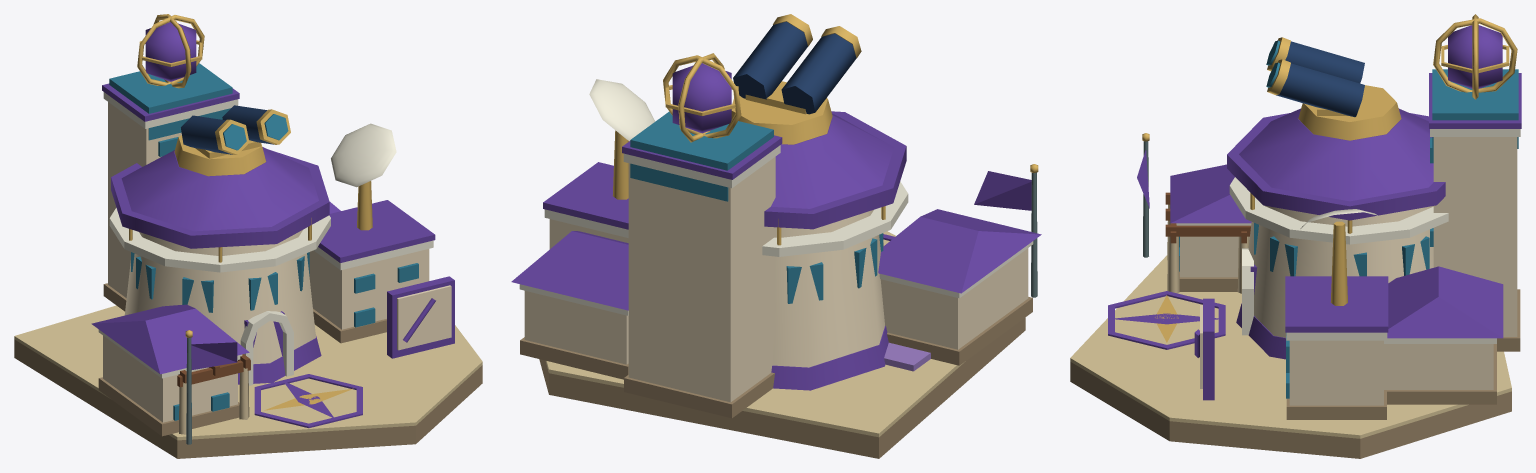
Rendered from scout-center-lv5.glb.
3 views of the same model, side by side, from view 1: azimuth 30°, elevation 25°; view 2: azimuth 150°, elevation 25°; view 3: azimuth 270°, elevation 25° (orthographic). The views are drawn at different scales.
Parts seen in each view (by area): view 1: foundation_sand, faceted_roof_violet, octagonal_office_cream, foundation_stoneDark, archive_wing_roof_violet, observation_eave_violet, communications_cream, archive_wing_cream, observation_balcony_white, communications_roof_violet, global_office_cream, global_office_crown_glass (+25 smaller); view 2: global_office_cream, octagonal_office_cream, foundation_stoneDark, foundation_sand, archive_wing_roof_violet, archive_wing_cream, faceted_roof_violet, roof_binoculars_naval, analysis_wing_roof_violet, global_office_crown_glass, analysis_wing_cream, observation_eave_violet (+23 smaller); view 3: foundation_sand, global_office_cream, faceted_roof_violet, foundation_stoneDark, octagonal_office_cream, analysis_wing_roof_violet, communications_cream, communications_roof_violet, analysis_wing_cream, observation_eave_violet, roof_binoculars_naval, observation_balcony_white (+25 smaller).
Part boxes in pixels (x1,y1,x2,y2): foundation_sand: [14, 305, 482, 440]; faceted_roof_violet: [121, 147, 318, 231]; octagonal_office_cream: [124, 230, 315, 364]; foundation_stoneDark: [14, 339, 482, 458]; archive_wing_roof_violet: [91, 304, 249, 374]; observation_eave_violet: [111, 149, 329, 248]; communications_cream: [309, 249, 429, 329]; archive_wing_cream: [103, 335, 237, 422]; observation_balcony_white: [109, 208, 330, 272]; communications_roof_violet: [318, 200, 435, 262]; global_office_cream: [108, 102, 181, 297]; global_office_crown_glass: [109, 63, 232, 140]; global_office_cream: [628, 156, 775, 402]; octagonal_office_cream: [772, 210, 884, 367]; foundation_stoneDark: [539, 317, 1025, 458]; foundation_sand: [545, 231, 965, 437]; archive_wing_roof_violet: [878, 209, 1041, 293]; archive_wing_cream: [880, 248, 1028, 349]; faceted_roof_violet: [771, 113, 893, 208]; roof_binoculars_naval: [733, 21, 856, 114]; analysis_wing_roof_violet: [511, 231, 628, 310]; global_office_crown_glass: [630, 111, 773, 201]; analysis_wing_cream: [524, 291, 628, 364]; observation_eave_violet: [764, 111, 906, 229]; foundation_sand: [1070, 255, 1511, 438]; global_office_cream: [1433, 137, 1517, 336]; faceted_roof_violet: [1239, 108, 1433, 201]; foundation_stoneDark: [1070, 362, 1511, 458]; octagonal_office_cream: [1248, 205, 1433, 337]; analysis_wing_roof_violet: [1387, 266, 1503, 338]; communications_cream: [1289, 340, 1383, 405]; communications_roof_violet: [1285, 276, 1388, 332]; analysis_wing_cream: [1384, 344, 1493, 389]; observation_eave_violet: [1227, 113, 1445, 220]; roof_binoculars_naval: [1276, 41, 1364, 117]; observation_balcony_white: [1229, 177, 1448, 244].
Size of the model in its own units: 0.9957 by 0.8127 by 1.
